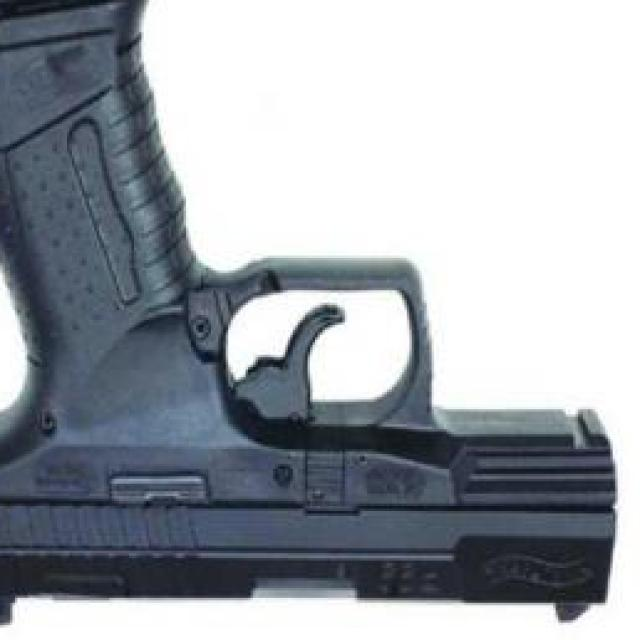pistol: (0, 0, 613, 625)
